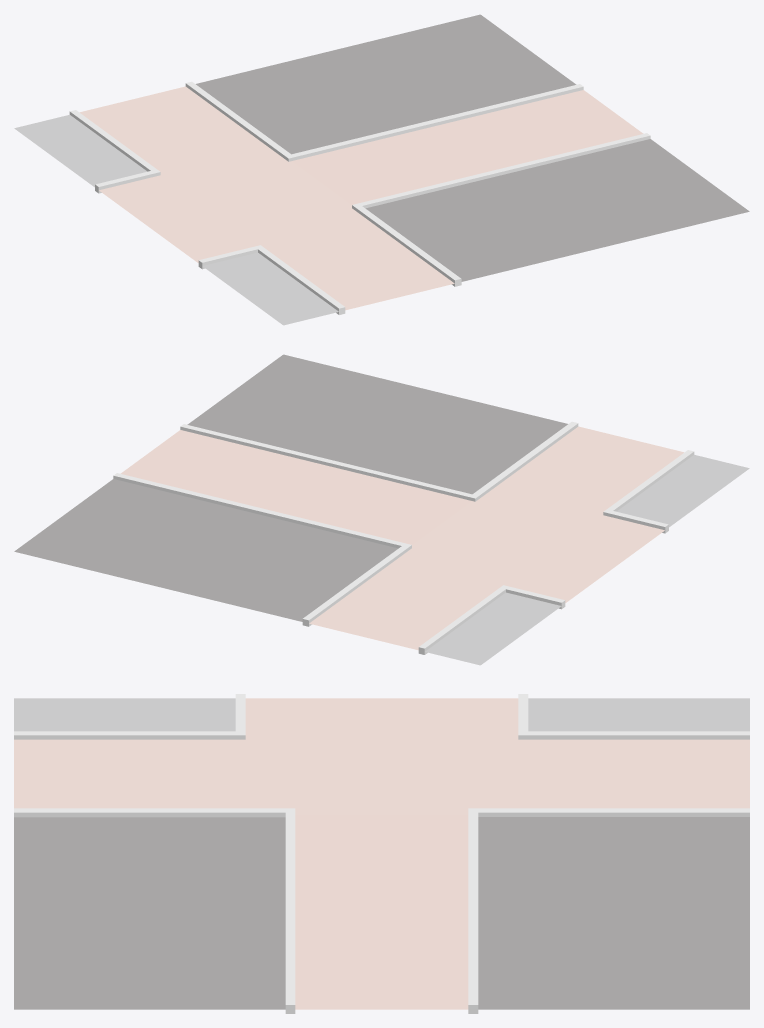
File: building_platform_014.glb
3 views of the same model, one above another, from view 1: azimuth 30°, elevation 25°; view 2: azimuth 150°, elevation 25°; view 3: azimuth 270°, elevation 25° (orthographic). The views are drawn at different scales.
Parts seen in each view (by area): view 1: building_platform_014; view 2: building_platform_014; view 3: building_platform_014.
Part boxes in pixels (<box>): building_platform_014: <box>14,14,749,325</box>; building_platform_014: <box>14,354,749,665</box>; building_platform_014: <box>14,694,749,1013</box>.
Bounding box in the file's own units: 15 × 0.2 × 15.
Materials: 1 (1 with a texture image).
